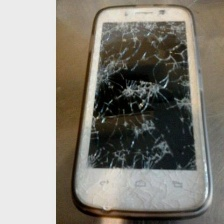phone: (66, 1, 215, 224)
